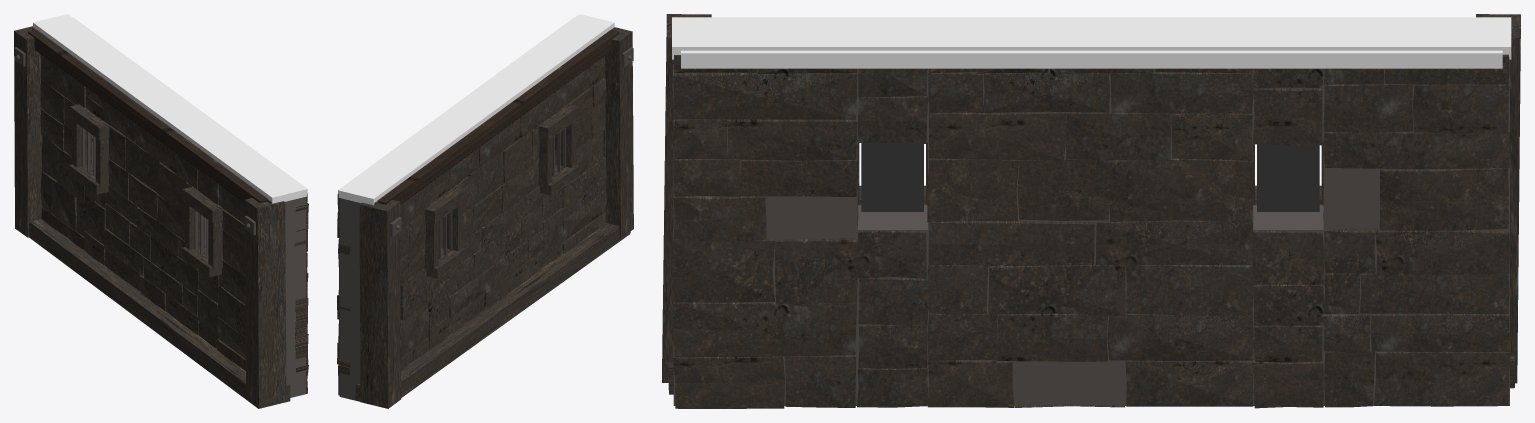
File: wall_left_preview.glb
3 views of the same model, side by side, from view 1: azimuth 30°, elevation 25°; view 2: azimuth 150°, elevation 25°; view 3: azimuth 270°, elevation 25° (orthographic). The views are drawn at different scales.
Visible parts, largest first — view 1: ASSET_LEFT_LEFT_roof_bedding_stone, ASSET_LEFT_LEFT_load_corner_1, ASSET_LEFT_LEFT_continuous_plinth, ASSET_LEFT_LEFT_load_corner_-1, ASSET_LEFT_LEFT_wall_plate, ASSET_LEFT_LEFT_solid_4_structural, ASSET_LEFT_LEFT_solid_2_stone_5_1, ASSET_LEFT_LEFT_solid_0_stone_5_0, ASSET_LEFT_LEFT_solid_4_stone_2_0, ASSET_LEFT_LEFT_solid_0_stone_1_1, ASSET_LEFT_LEFT_solid_2_stone_5_2, ASSET_LEFT_LEFT_solid_2_stone_3_1 (+48 smaller); view 2: ASSET_LEFT_LEFT_roof_bedding_stone, ASSET_LEFT_LEFT_load_corner_-1, ASSET_LEFT_LEFT_continuous_plinth, ASSET_LEFT_LEFT_load_corner_1, ASSET_LEFT_LEFT_wall_plate, ASSET_LEFT_LEFT_solid_0_structural, ASSET_LEFT_LEFT_solid_4_stone_2_0, ASSET_LEFT_LEFT_solid_2_stone_5_1, ASSET_LEFT_LEFT_solid_0_stone_2_1, ASSET_LEFT_LEFT_solid_2_stone_5_2, ASSET_LEFT_LEFT_solid_2_stone_4_2, ASSET_LEFT_LEFT_solid_2_stone_3_1 (+49 smaller); view 3: ASSET_LEFT_LEFT_roof_bedding_stone, ASSET_LEFT_LEFT_interior_coping_return, ASSET_LEFT_LEFT_solid_4_InteriorPBR_1_0, ASSET_LEFT_LEFT_solid_2_InteriorPBR_4_0, ASSET_LEFT_LEFT_solid_4_InteriorPBR_6_0, ASSET_LEFT_LEFT_solid_0_InteriorPBR_4_0, ASSET_LEFT_LEFT_solid_2_InteriorPBR_3_1, ASSET_LEFT_LEFT_solid_0_InteriorPBR_0_0, ASSET_LEFT_LEFT_solid_2_InteriorPBR_3_0, ASSET_LEFT_LEFT_solid_2_structural, ASSET_LEFT_LEFT_solid_0_InteriorPBR_5_0, ASSET_LEFT_LEFT_solid_2_InteriorPBR_2_1 (+55 smaller).
Boxes of the visible parts, bbox=[...] form: ASSET_LEFT_LEFT_roof_bedding_stone: bbox=[33, 14, 306, 203]; ASSET_LEFT_LEFT_load_corner_1: bbox=[245, 198, 286, 406]; ASSET_LEFT_LEFT_continuous_plinth: bbox=[29, 219, 290, 408]; ASSET_LEFT_LEFT_load_corner_-1: bbox=[14, 26, 42, 237]; ASSET_LEFT_LEFT_wall_plate: bbox=[28, 29, 268, 203]; ASSET_LEFT_LEFT_solid_4_structural: bbox=[285, 197, 305, 397]; ASSET_LEFT_LEFT_solid_2_stone_5_1: bbox=[125, 137, 160, 193]; ASSET_LEFT_LEFT_solid_0_stone_5_0: bbox=[40, 54, 85, 107]; ASSET_LEFT_LEFT_solid_4_stone_2_0: bbox=[217, 285, 245, 337]; ASSET_LEFT_LEFT_solid_0_stone_1_1: bbox=[51, 179, 76, 231]; ASSET_LEFT_LEFT_solid_2_stone_5_2: bbox=[159, 162, 187, 214]; ASSET_LEFT_LEFT_solid_2_stone_3_1: bbox=[137, 207, 178, 256]; ASSET_LEFT_LEFT_roof_bedding_stone: bbox=[338, 14, 614, 205]; ASSET_LEFT_LEFT_load_corner_-1: bbox=[359, 200, 401, 408]; ASSET_LEFT_LEFT_continuous_plinth: bbox=[355, 223, 630, 401]; ASSET_LEFT_LEFT_load_corner_1: bbox=[604, 27, 633, 238]; ASSET_LEFT_LEFT_wall_plate: bbox=[377, 29, 619, 204]; ASSET_LEFT_LEFT_solid_0_structural: bbox=[339, 198, 360, 401]; ASSET_LEFT_LEFT_solid_4_stone_2_0: bbox=[562, 163, 597, 219]; ASSET_LEFT_LEFT_solid_2_stone_5_1: bbox=[468, 151, 503, 208]; ASSET_LEFT_LEFT_solid_0_stone_2_1: bbox=[400, 268, 430, 320]; ASSET_LEFT_LEFT_solid_2_stone_5_2: bbox=[503, 130, 532, 183]; ASSET_LEFT_LEFT_solid_2_stone_4_2: bbox=[501, 160, 538, 212]; ASSET_LEFT_LEFT_solid_2_stone_3_1: bbox=[482, 197, 524, 247]; ASSET_LEFT_LEFT_roof_bedding_stone: bbox=[672, 17, 1511, 59]; ASSET_LEFT_LEFT_interior_coping_return: bbox=[681, 50, 1502, 68]; ASSET_LEFT_LEFT_solid_4_InteriorPBR_1_0: bbox=[672, 302, 856, 357]; ASSET_LEFT_LEFT_solid_2_InteriorPBR_4_0: bbox=[1108, 151, 1254, 222]; ASSET_LEFT_LEFT_solid_4_InteriorPBR_6_0: bbox=[673, 64, 857, 119]; ASSET_LEFT_LEFT_solid_0_InteriorPBR_4_0: bbox=[1379, 168, 1508, 230]; ASSET_LEFT_LEFT_solid_2_InteriorPBR_3_1: bbox=[928, 221, 1094, 266]; ASSET_LEFT_LEFT_solid_0_InteriorPBR_0_0: bbox=[1374, 343, 1510, 406]; ASSET_LEFT_LEFT_solid_2_InteriorPBR_3_0: bbox=[1096, 220, 1252, 265]; ASSET_LEFT_LEFT_solid_2_structural: bbox=[928, 68, 1253, 405]; ASSET_LEFT_LEFT_solid_0_InteriorPBR_5_0: bbox=[1323, 131, 1510, 169]; ASSET_LEFT_LEFT_solid_2_InteriorPBR_2_1: bbox=[988, 263, 1125, 316].
Size of the model in its own units: 0.986 by 3.3 by 7.07.
8 materials, 4 textured.
